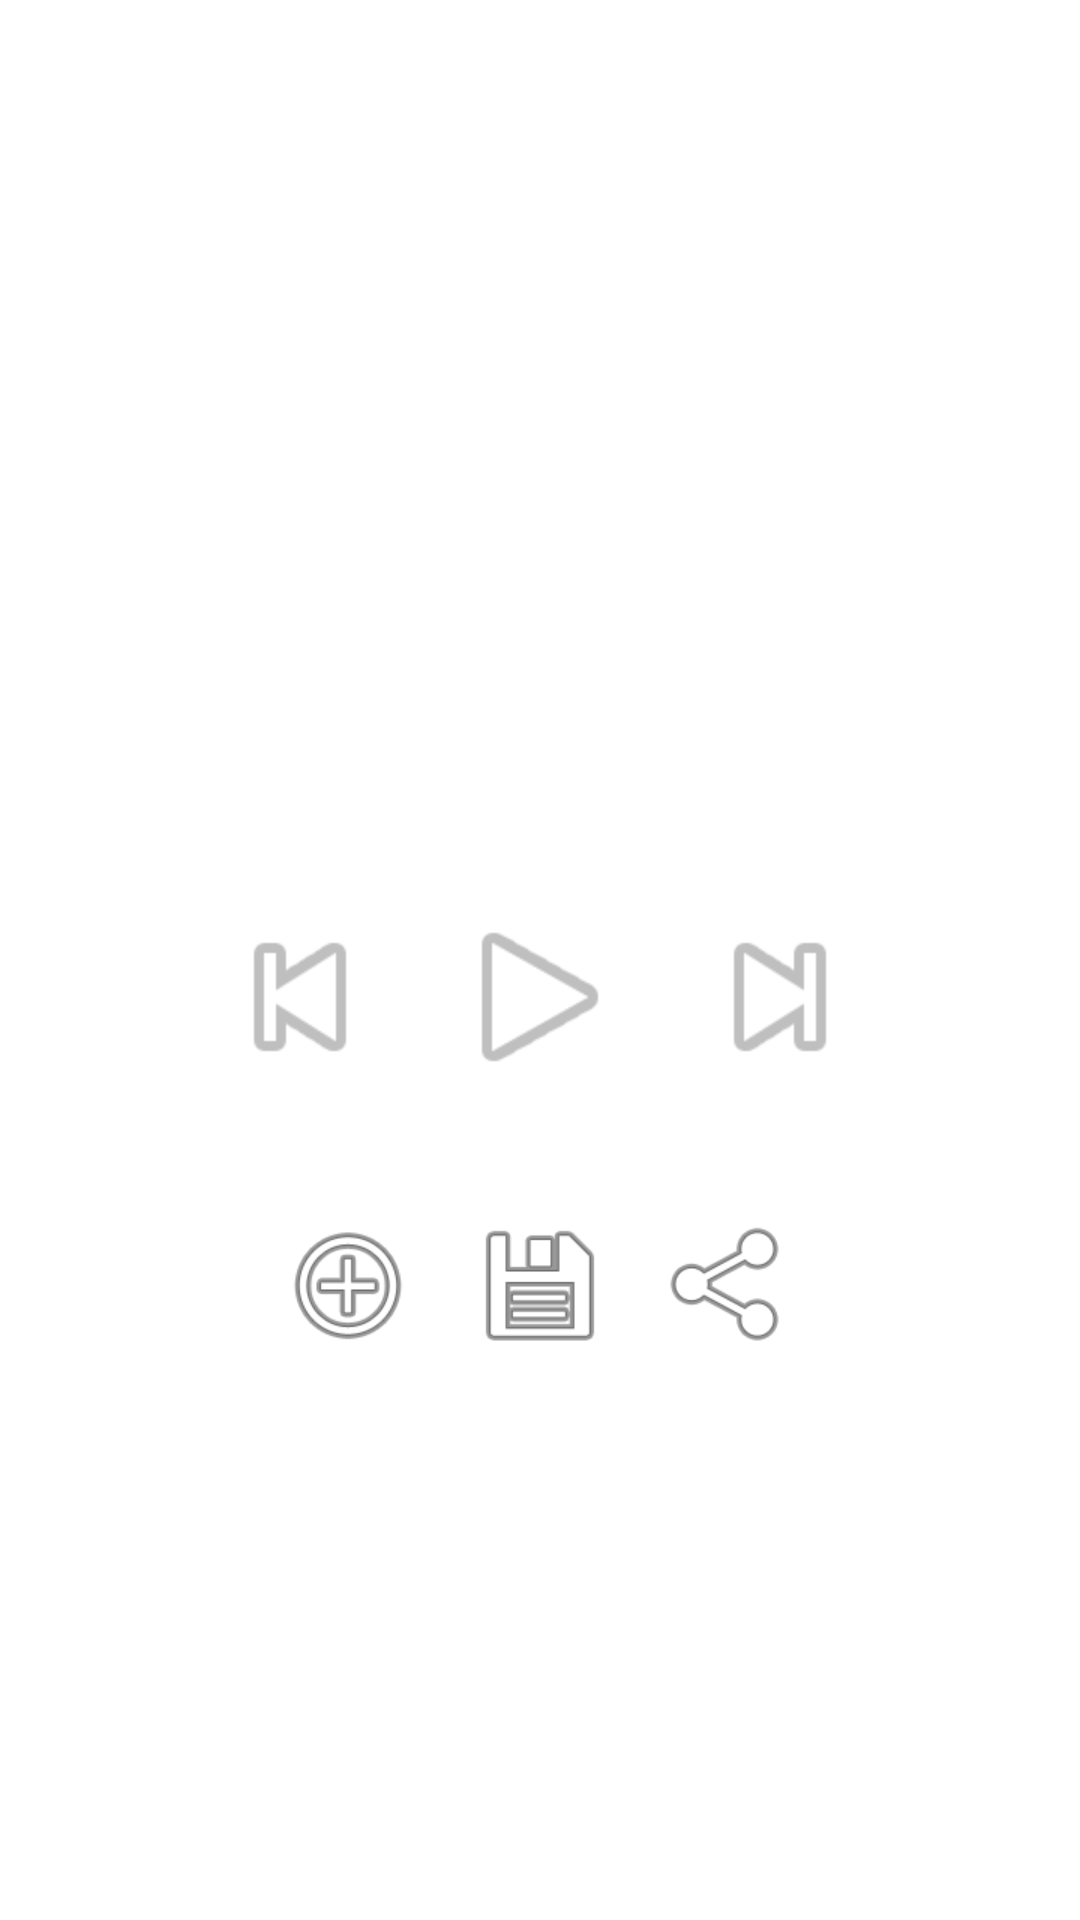

Where icons sit on this 1080*1920 app screen, as rect(x1, y1, x2, y2):
add: rect(294, 1232, 402, 1339)
next: rect(734, 943, 826, 1051)
play: rect(482, 933, 598, 1061)
previous: rect(254, 943, 346, 1051)
save: rect(486, 1231, 594, 1341)
share: rect(670, 1228, 779, 1341)
